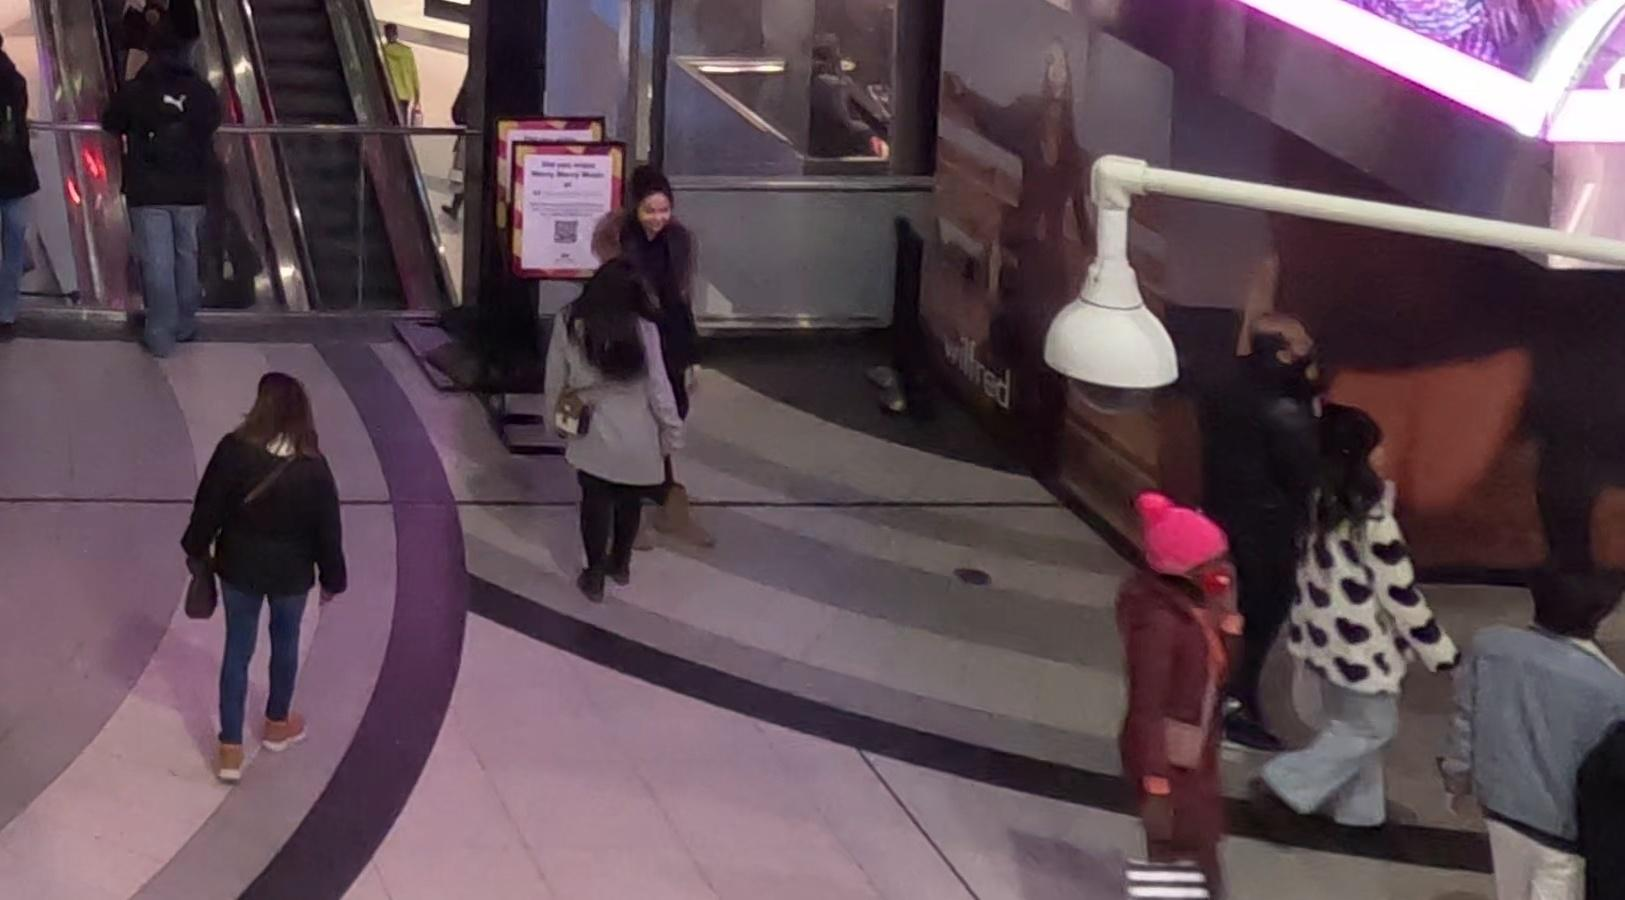person: (1265, 409, 1462, 839), (185, 371, 362, 793), (1418, 552, 1617, 895), (1115, 493, 1254, 900), (99, 20, 241, 372), (547, 251, 678, 605), (595, 159, 720, 445)
